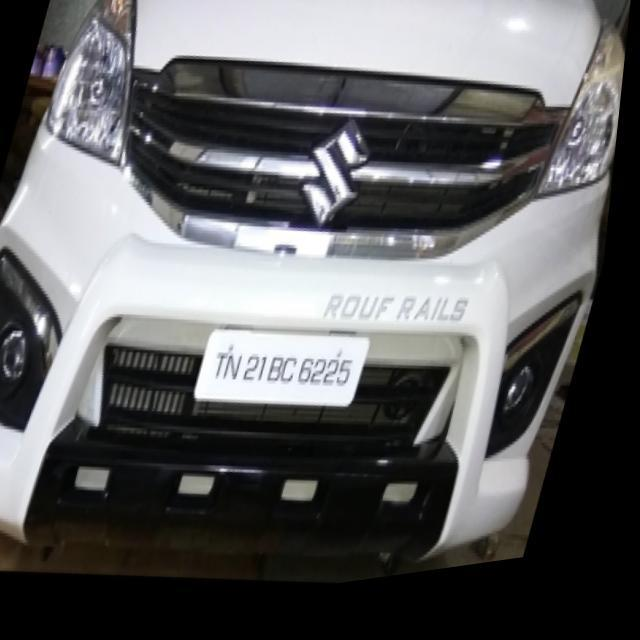license_plate: (198, 315, 381, 433)
